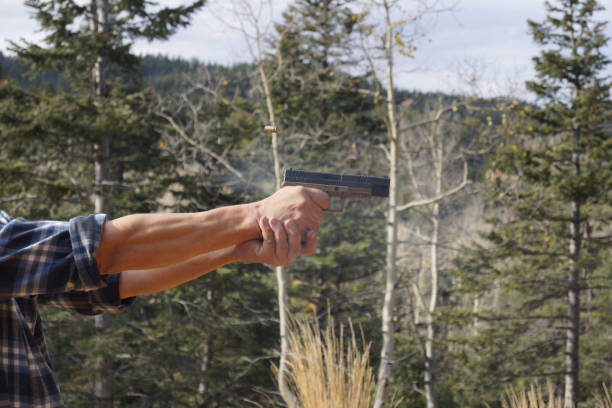gun: (278, 168, 391, 246)
